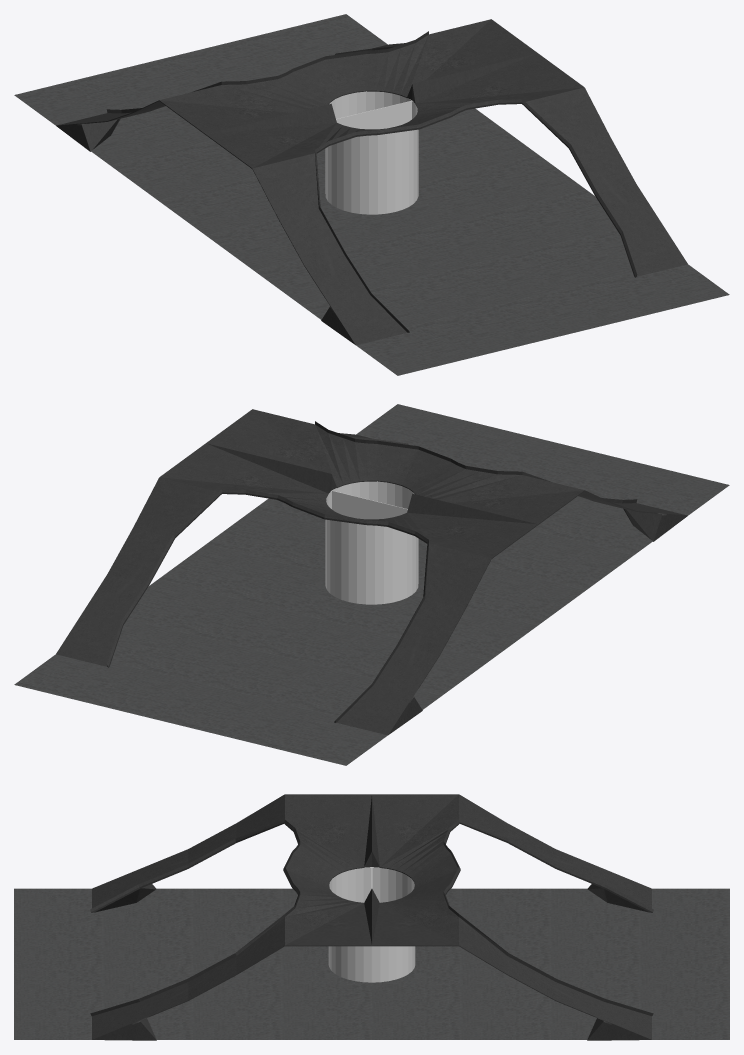
The picture shows the model from 3 angles, top to bottom: view 1: azimuth 30°, elevation 25°; view 2: azimuth 150°, elevation 25°; view 3: azimuth 270°, elevation 25°; orthographic projection. The views are drawn at different scales.
Visible parts, largest first — view 1: Carpet, Ramp2, Ramp3, Ramp1, Generator, Ramp0, Divider; view 2: Carpet, Ramp0, Ramp1, Ramp3, Generator, Ramp2, Divider; view 3: Carpet, Ramp1, Ramp3, Ramp0, Ramp2, Generator.
Boxes of the visible parts, x1=… form: Carpet: x1=14, y1=14, x2=729, y2=375; Ramp2: x1=395, y1=53, x2=687, y2=277; Ramp3: x1=206, y1=103, x2=419, y2=345; Ramp1: x1=56, y1=56, x2=348, y2=151; Generator: x1=325, y1=91, x2=418, y2=214; Ramp0: x1=325, y1=19, x2=537, y2=100; Divider: x1=336, y1=100, x2=411, y2=129; Carpet: x1=14, y1=404, x2=729, y2=765; Ramp0: x1=56, y1=443, x2=348, y2=667; Ramp1: x1=324, y1=493, x2=537, y2=735; Ramp3: x1=395, y1=446, x2=687, y2=541; Generator: x1=325, y1=481, x2=418, y2=604; Ramp2: x1=206, y1=409, x2=418, y2=490; Divider: x1=332, y1=490, x2=407, y2=519; Carpet: x1=14, y1=888, x2=729, y2=1039; Ramp1: x1=372, y1=794, x2=653, y2=912; Ramp3: x1=90, y1=794, x2=371, y2=912; Ramp0: x1=372, y1=867, x2=653, y2=1040; Ramp2: x1=90, y1=867, x2=371, y2=1040; Generator: x1=328, y1=867, x2=415, y2=982.
Bounding box in the file's own units: 823 × 250 × 1646.
Materials: 2 (2 with a texture image).
